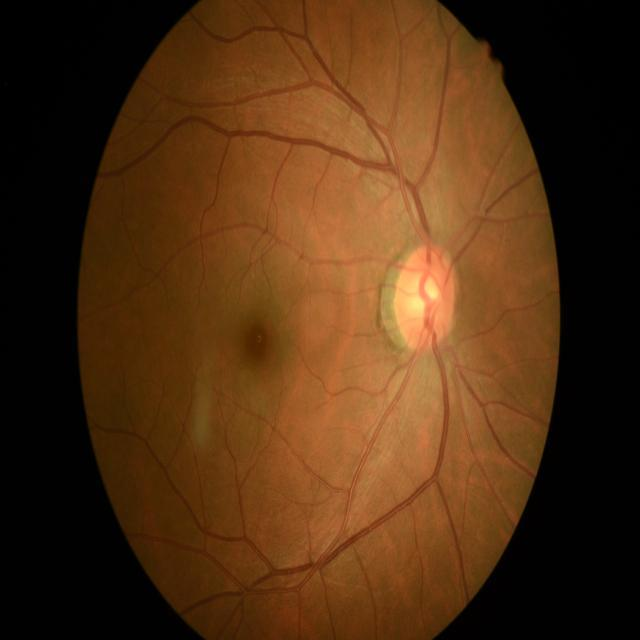cup: (404, 268, 442, 329)
disk: (395, 246, 457, 350)
